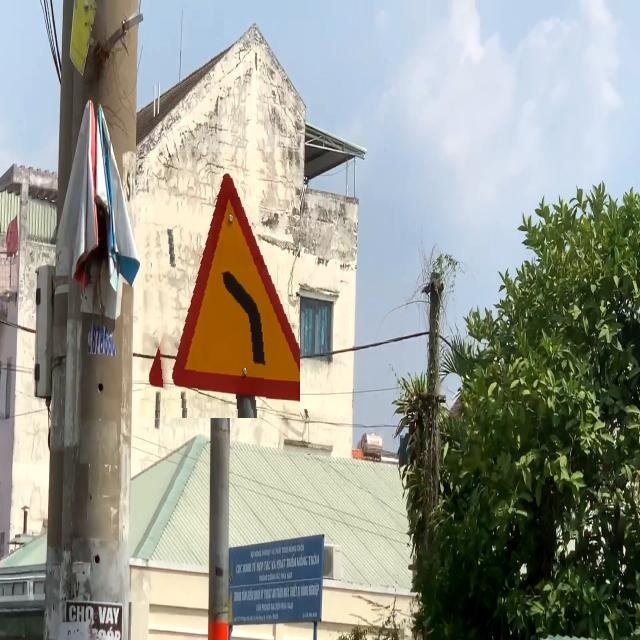bien_nguy_hiem: (139, 152, 300, 418)
